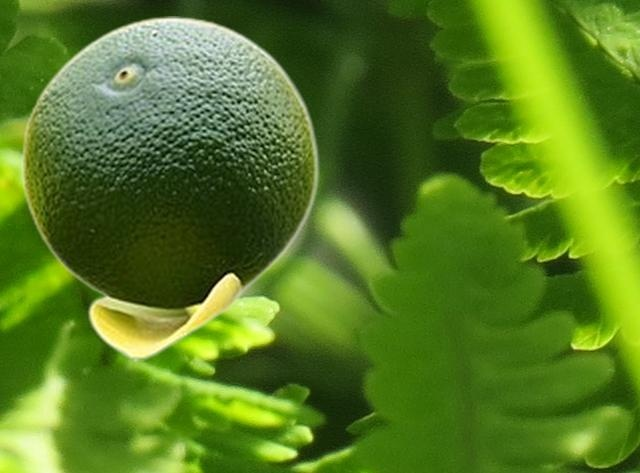calamansi: (21, 16, 318, 359)
